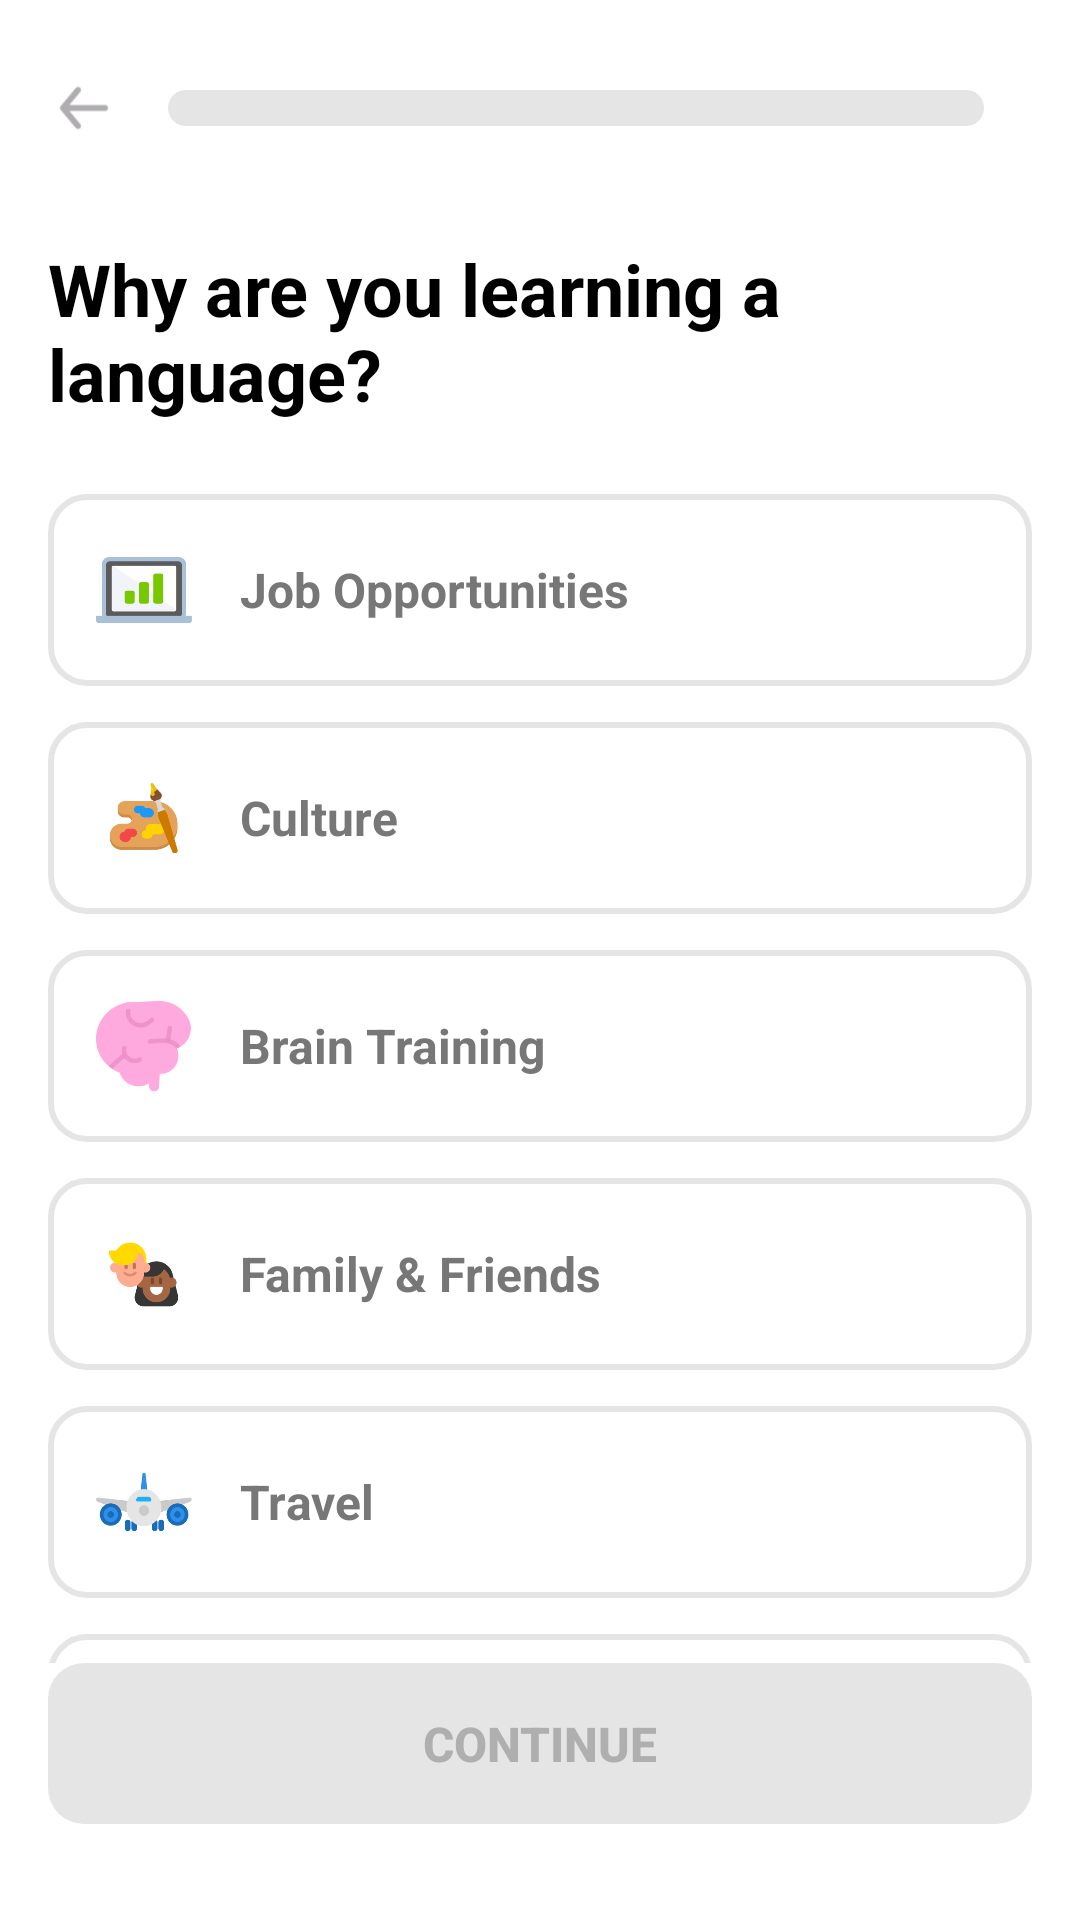

Where to tap for icons on this 1080px×1920px app screen, as point (x, y):
back arrow: point (84, 108)
